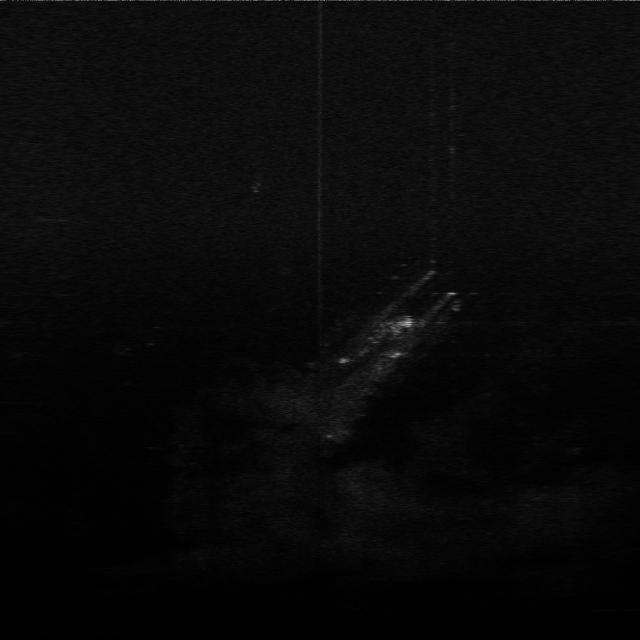rov: (388, 314, 421, 334)
